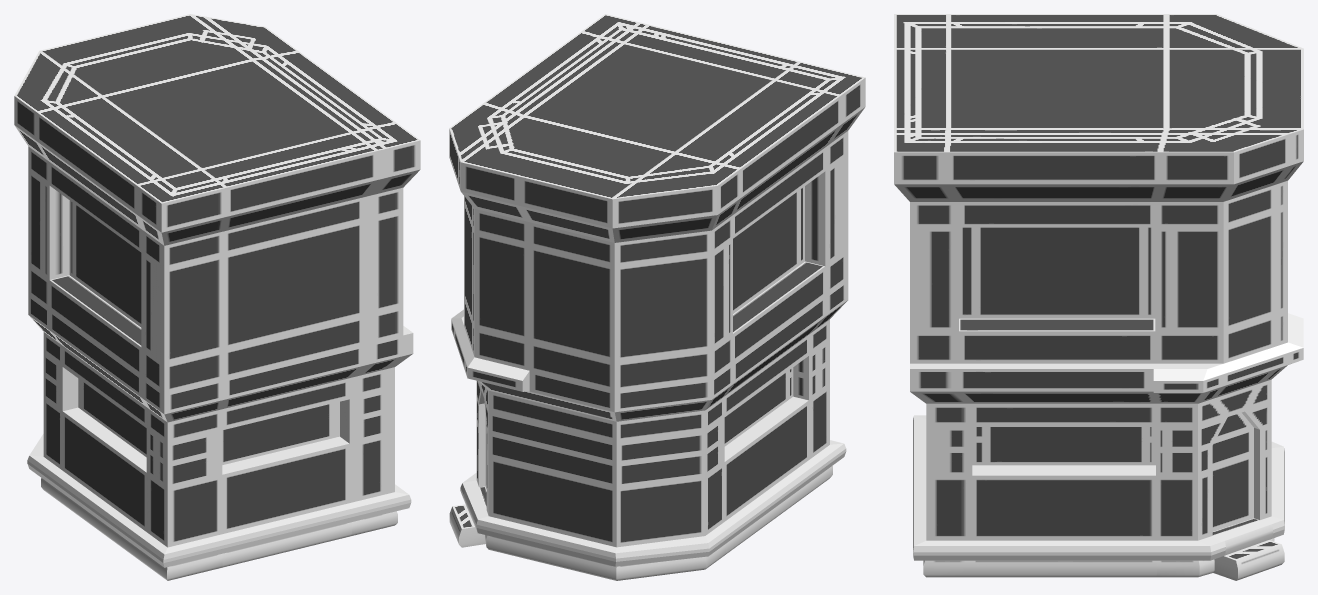
The model's file is TallBuildingGGJ.fbx.
The picture shows the model from 3 angles, left to right: view 1: azimuth 30°, elevation 25°; view 2: azimuth 150°, elevation 25°; view 3: azimuth 270°, elevation 25°; orthographic projection. The views are drawn at different scales.
Visible parts, largest first — view 1: pCube22; view 2: pCube22; view 3: pCube22.
Boxes of the visible parts, <box> form: pCube22: <box>14,14,420,580</box>; pCube22: <box>449,14,865,580</box>; pCube22: <box>894,14,1303,580</box>.
Size of the model in its own units: 16.88 by 23.39 by 20.18.
